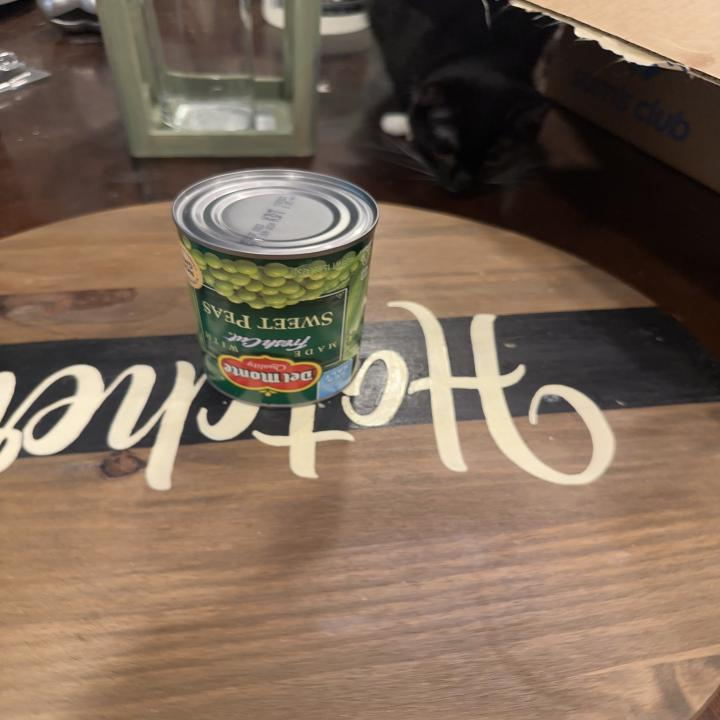Canned-Peas: (170, 166, 382, 408)
